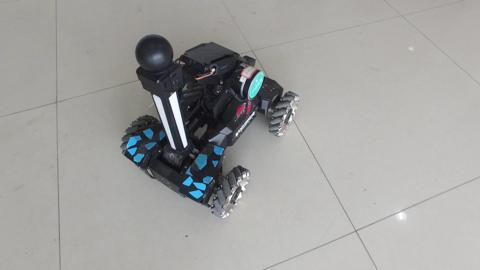chariot: (105, 41, 269, 202)
